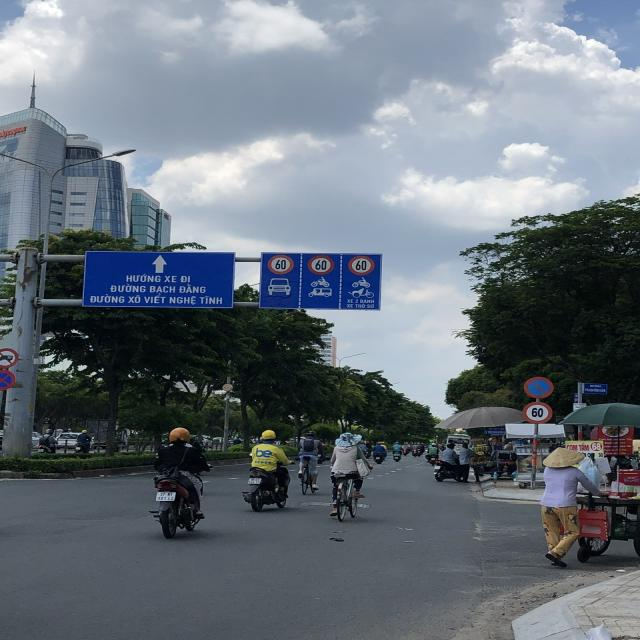Bien bao cam do xe: (521, 374, 559, 401)
Bien bao toc do toi da cho phep: (520, 401, 554, 426), (303, 253, 335, 277), (263, 253, 296, 276), (346, 255, 378, 278)
